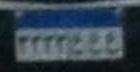2: (56, 33, 68, 54), (19, 35, 31, 55), (44, 33, 54, 55), (32, 35, 43, 55)
ain: (103, 27, 121, 57), (87, 30, 101, 56), (70, 32, 85, 55)
